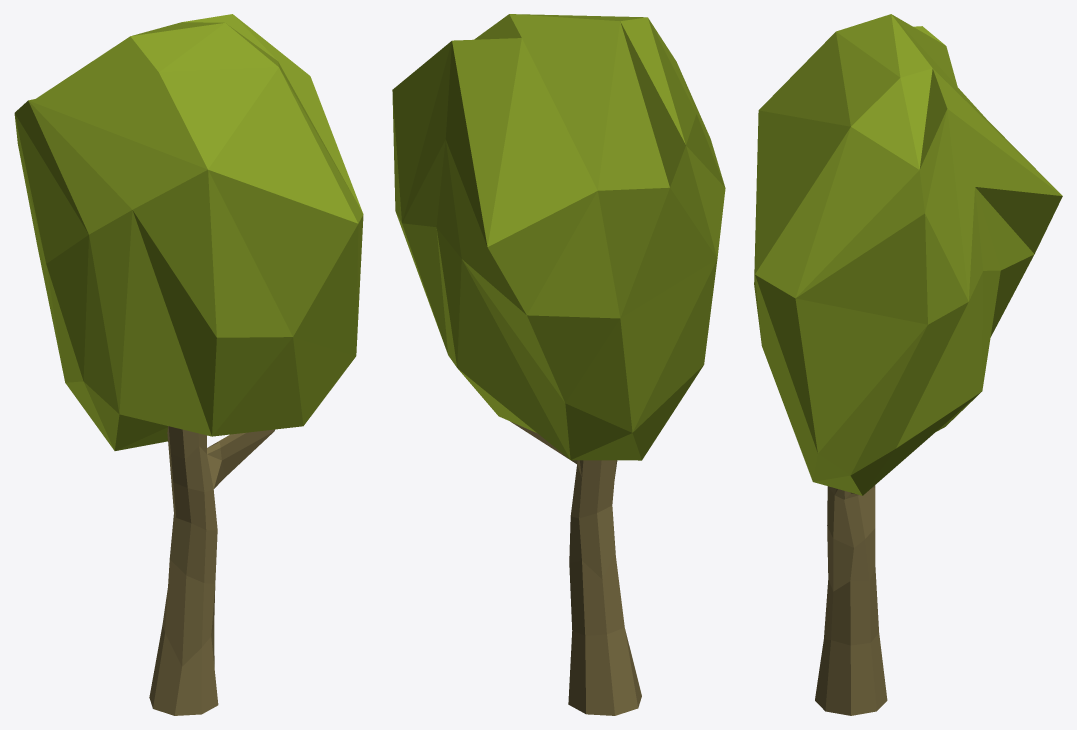
File: Tree02.fbx
3 renders of one model, left to right at view 1: azimuth 30°, elevation 25°; view 2: azimuth 150°, elevation 25°; view 3: azimuth 270°, elevation 25°, orthographic. The views are drawn at different scales.
Parts seen in each view (by area): view 1: Leaves, Trunk; view 2: Leaves, Trunk; view 3: Leaves, Trunk.
Part boxes in pixels (box(x1,y1,x2,y2)): Leaves: box(14, 14, 363, 450); Trunk: box(149, 426, 274, 715); Leaves: box(392, 14, 725, 460); Trunk: box(510, 421, 641, 715); Leaves: box(754, 14, 1062, 495); Trunk: box(815, 485, 887, 715).
Size of the model in its own units: 4.07 by 8.97 by 3.75.
